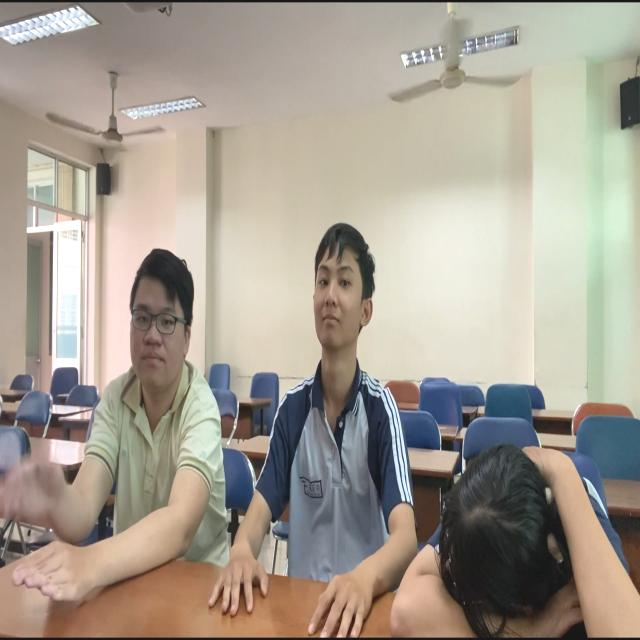sleep: (398, 441, 640, 640)
